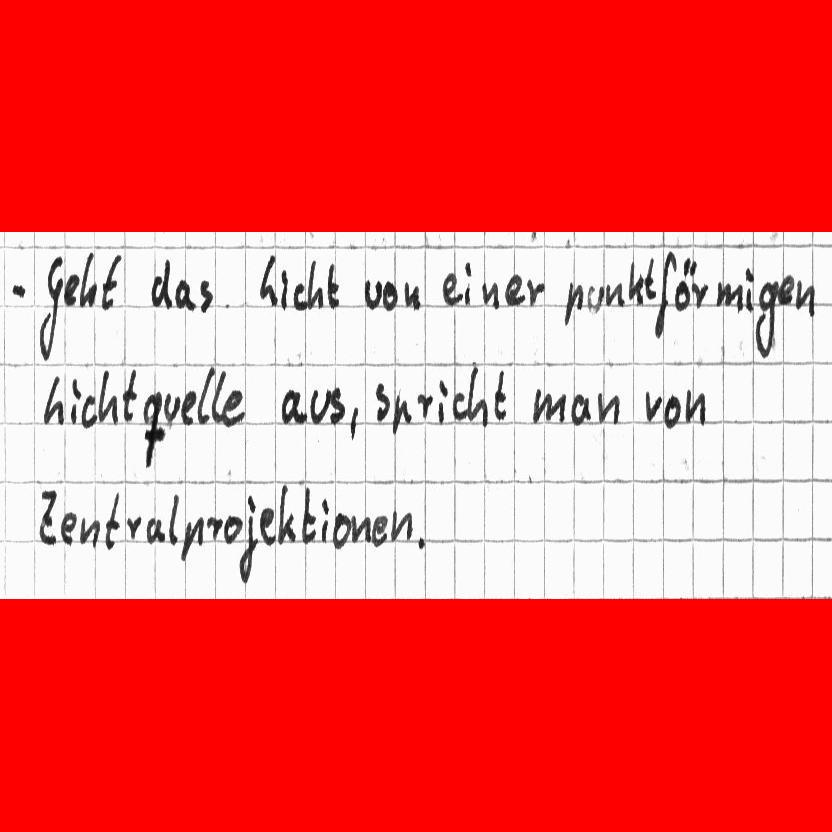Char: (37, 258, 63, 362), (234, 496, 257, 581), (141, 392, 165, 473), (652, 252, 674, 337), (756, 279, 776, 356), (41, 372, 67, 429), (530, 387, 565, 427), (149, 256, 173, 310), (469, 363, 489, 426), (37, 486, 58, 546), (100, 252, 120, 312), (675, 254, 695, 312), (258, 251, 278, 308), (78, 250, 97, 309), (98, 370, 118, 426), (563, 277, 585, 325), (277, 483, 294, 545), (714, 280, 743, 315), (209, 368, 227, 424), (180, 515, 201, 562), (300, 485, 316, 545), (199, 367, 215, 427), (682, 386, 705, 427), (220, 389, 244, 427), (596, 390, 622, 425), (279, 387, 302, 426), (122, 367, 138, 422), (105, 492, 121, 546), (492, 368, 507, 423), (389, 509, 412, 543), (625, 259, 642, 304), (391, 394, 411, 432), (308, 260, 323, 310), (795, 279, 815, 316), (327, 386, 345, 427), (221, 513, 244, 545), (373, 379, 389, 424), (79, 516, 101, 548), (326, 260, 340, 309), (504, 272, 523, 308), (439, 271, 458, 307), (308, 387, 325, 427), (600, 281, 624, 309), (352, 513, 371, 548), (332, 514, 350, 550), (644, 390, 663, 424), (643, 256, 658, 299), (166, 494, 179, 542), (362, 278, 382, 309), (63, 271, 80, 307), (481, 278, 502, 307), (570, 392, 589, 424), (174, 279, 193, 311), (59, 510, 75, 548), (525, 278, 545, 308), (260, 508, 276, 545), (80, 395, 97, 429), (690, 281, 709, 311), (451, 390, 468, 423), (403, 281, 423, 309), (162, 391, 180, 422), (182, 388, 197, 425), (664, 394, 680, 428), (462, 261, 474, 306), (586, 284, 604, 314), (436, 377, 447, 426), (198, 279, 214, 312), (382, 279, 398, 311), (69, 380, 80, 426), (146, 516, 164, 544), (418, 391, 434, 422), (348, 404, 361, 442), (124, 513, 142, 540), (373, 514, 388, 546), (743, 268, 754, 311), (778, 276, 793, 307), (293, 281, 308, 312), (320, 498, 330, 541), (280, 271, 290, 308), (9, 281, 27, 301), (206, 517, 221, 541), (415, 532, 429, 551)
